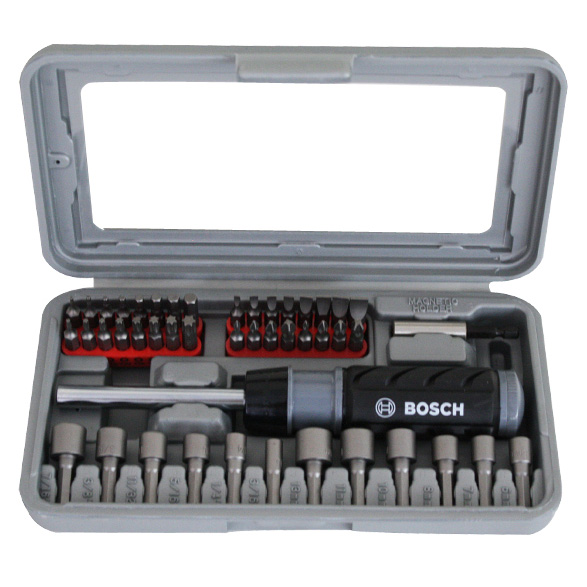Bosch: (396, 399, 470, 419)
